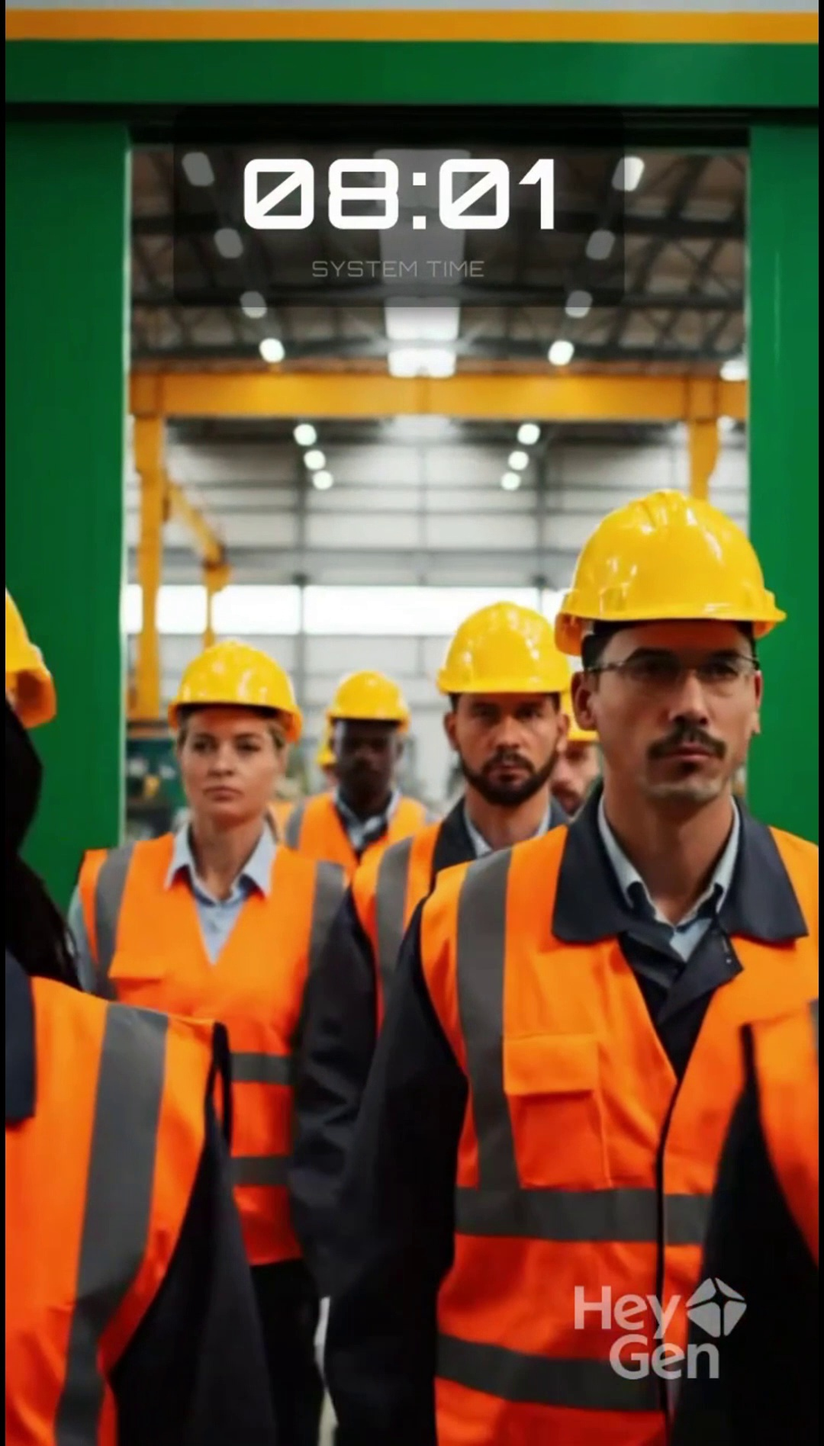Adem: (578, 519, 763, 882)
Ali: (435, 616, 568, 856)
Seline: (162, 630, 295, 930)
employe: (566, 490, 787, 1446), (133, 600, 316, 1363), (413, 580, 577, 1330)
porte_verte: (5, 19, 824, 1437)
temp: (185, 123, 639, 323)
